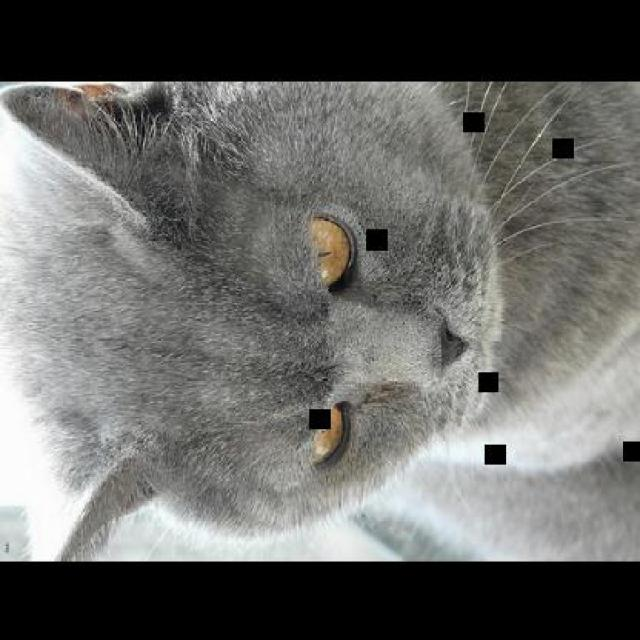unauthorized: (0, 78, 638, 559)
